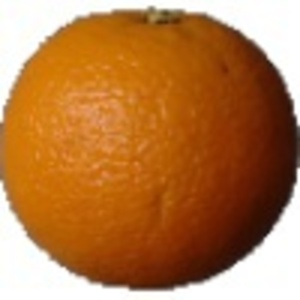laranja: (4, 4, 295, 294)
